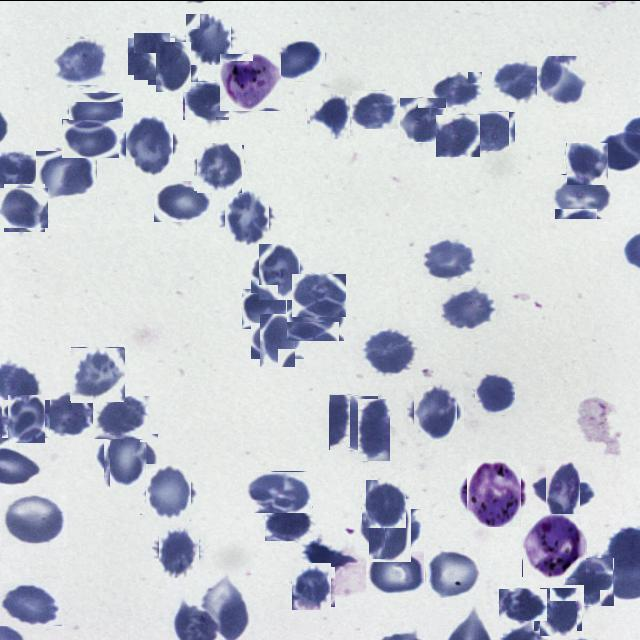difficult: (522, 512, 586, 576), (464, 462, 526, 522)
red blood cell: (2, 493, 67, 546), (122, 118, 177, 172), (70, 347, 125, 401), (36, 150, 97, 198), (99, 428, 153, 482), (364, 502, 416, 556), (424, 547, 480, 597), (550, 173, 612, 218), (246, 470, 312, 512), (366, 549, 428, 593), (329, 394, 378, 449), (0, 582, 62, 625), (143, 466, 194, 518), (286, 296, 344, 340), (410, 388, 460, 438), (222, 192, 272, 242), (538, 466, 588, 516), (56, 36, 106, 86), (536, 55, 586, 105), (440, 284, 496, 328), (94, 396, 150, 440), (254, 247, 304, 296), (360, 330, 414, 374), (184, 15, 233, 63), (42, 391, 93, 437), (292, 273, 346, 316), (195, 143, 243, 191), (566, 557, 614, 605), (154, 180, 210, 221), (62, 118, 119, 157), (156, 526, 202, 574), (423, 238, 476, 278), (492, 60, 544, 100), (401, 96, 446, 142), (358, 398, 390, 460), (68, 91, 123, 127), (276, 40, 325, 80), (256, 318, 300, 362), (290, 564, 334, 608), (364, 482, 408, 526), (2, 185, 46, 229), (242, 288, 290, 328), (431, 70, 482, 107), (5, 396, 48, 439), (308, 94, 352, 136), (436, 114, 480, 156), (152, 44, 194, 88), (351, 89, 398, 128), (183, 80, 230, 119), (537, 590, 580, 632), (130, 34, 172, 76), (566, 142, 608, 184), (265, 505, 313, 540), (473, 110, 515, 150), (475, 373, 515, 414), (499, 588, 547, 620)
trophozoite: (221, 52, 280, 112)
